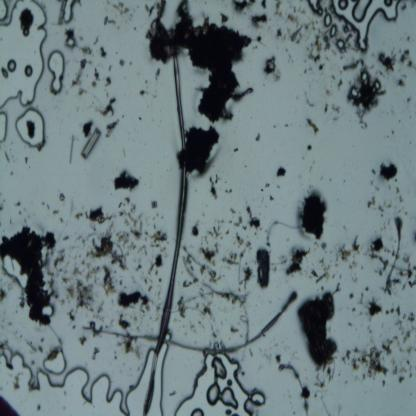Air bubble: (65, 348, 154, 416), (0, 0, 50, 113), (332, 0, 401, 53), (0, 341, 65, 397), (157, 348, 209, 416), (12, 105, 48, 153), (206, 381, 238, 409), (48, 50, 66, 96), (4, 255, 27, 289), (242, 388, 268, 416), (43, 352, 67, 376), (0, 0, 21, 27), (352, 0, 372, 22), (210, 355, 227, 380), (0, 108, 10, 144), (62, 0, 74, 23), (308, 0, 324, 16), (40, 304, 54, 318), (6, 59, 18, 73), (23, 64, 33, 78), (323, 14, 333, 26), (337, 0, 349, 10), (190, 408, 204, 416), (164, 333, 174, 343), (330, 24, 337, 38), (1, 66, 8, 79), (67, 38, 75, 49), (336, 40, 345, 49), (22, 28, 30, 38), (374, 78, 380, 91), (383, 0, 393, 7), (352, 87, 358, 97), (225, 408, 232, 415), (226, 378, 232, 386), (361, 73, 367, 80)
Background material: (178, 2, 258, 128), (170, 291, 297, 349), (0, 224, 59, 325), (294, 294, 341, 371), (75, 262, 124, 318), (142, 0, 181, 70), (176, 121, 219, 177), (347, 66, 386, 119), (277, 362, 315, 416), (387, 321, 416, 384), (298, 182, 328, 240), (82, 320, 157, 343), (383, 216, 402, 291), (86, 221, 114, 259), (361, 346, 390, 380), (284, 245, 313, 278), (254, 248, 274, 291), (116, 195, 138, 229), (118, 291, 150, 314), (112, 168, 140, 192), (212, 289, 249, 306), (109, 247, 129, 272), (264, 54, 281, 83), (182, 246, 197, 278), (380, 46, 396, 74), (86, 205, 107, 226), (265, 219, 280, 248), (99, 94, 117, 117), (124, 336, 142, 358), (148, 253, 166, 275), (237, 266, 254, 288), (378, 162, 398, 180), (248, 12, 268, 30), (246, 206, 261, 229), (232, 0, 256, 14), (366, 296, 382, 317), (207, 172, 219, 200), (384, 276, 402, 294), (221, 250, 239, 267), (287, 25, 303, 44), (402, 252, 413, 279), (46, 279, 60, 300), (199, 246, 216, 263), (342, 58, 366, 70), (106, 118, 120, 138), (273, 252, 287, 272), (207, 268, 223, 285), (312, 372, 327, 390), (176, 294, 187, 318), (53, 246, 66, 266), (369, 236, 385, 252), (115, 230, 130, 247), (81, 120, 95, 138), (149, 230, 168, 243), (339, 242, 352, 261), (118, 314, 132, 331), (382, 338, 393, 358), (352, 233, 362, 255), (200, 303, 214, 318), (47, 345, 61, 360), (206, 224, 221, 238), (308, 116, 319, 135), (322, 27, 330, 53), (180, 277, 198, 288), (143, 1, 156, 16), (69, 132, 75, 164), (315, 272, 331, 284), (113, 2, 129, 14), (130, 228, 144, 241), (287, 13, 299, 28), (13, 373, 23, 391), (378, 256, 390, 271), (26, 337, 37, 353), (314, 32, 322, 53), (321, 257, 332, 272), (304, 91, 314, 107), (238, 248, 246, 268), (235, 232, 245, 248), (71, 73, 81, 88), (326, 366, 334, 384), (342, 348, 351, 364), (68, 198, 77, 214), (80, 45, 93, 56), (19, 288, 26, 308), (370, 178, 380, 192), (399, 49, 409, 63), (66, 285, 76, 299), (0, 338, 10, 352), (76, 233, 86, 247), (0, 285, 8, 302), (332, 281, 341, 296), (219, 11, 230, 23), (367, 197, 378, 209), (58, 274, 69, 286), (351, 356, 361, 369), (92, 345, 100, 360), (138, 244, 148, 256), (276, 165, 286, 177), (406, 58, 416, 70), (57, 265, 69, 275), (47, 267, 56, 280), (344, 30, 353, 43), (64, 30, 75, 40), (103, 76, 112, 88), (234, 215, 243, 227), (191, 223, 199, 236), (407, 311, 416, 322), (77, 86, 86, 97), (397, 266, 406, 277), (155, 67, 162, 81), (99, 47, 107, 59), (154, 301, 162, 313), (358, 291, 364, 306), (275, 0, 281, 15), (94, 66, 100, 81), (80, 58, 88, 69), (332, 103, 340, 114), (200, 263, 207, 275), (213, 242, 220, 254), (68, 309, 75, 321), (130, 239, 137, 251), (80, 334, 87, 346), (3, 150, 10, 162), (314, 53, 322, 63), (102, 16, 110, 26), (308, 48, 314, 61), (275, 353, 282, 364), (337, 79, 344, 90), (359, 120, 368, 128), (378, 202, 384, 214), (318, 61, 326, 70), (276, 26, 282, 38), (298, 4, 307, 12), (408, 278, 416, 287), (50, 208, 60, 215), (58, 193, 66, 201), (370, 252, 378, 260), (212, 342, 220, 350), (334, 250, 338, 266), (304, 22, 312, 30), (76, 211, 84, 219), (231, 326, 240, 333), (131, 316, 140, 323), (398, 78, 405, 87), (14, 200, 23, 207), (256, 34, 263, 43), (311, 21, 317, 31), (107, 18, 117, 24), (395, 306, 401, 316), (36, 402, 42, 412), (104, 215, 114, 221), (255, 132, 261, 142), (246, 240, 252, 250), (348, 292, 355, 300), (135, 263, 142, 271), (352, 347, 360, 354), (325, 88, 332, 96), (402, 282, 409, 290), (375, 268, 383, 275), (94, 36, 100, 45), (312, 269, 318, 278), (230, 207, 237, 214), (383, 246, 390, 253), (63, 234, 70, 241), (58, 216, 64, 224), (398, 195, 404, 203), (331, 48, 337, 56), (352, 260, 358, 268), (224, 187, 232, 193), (23, 156, 29, 164), (60, 298, 66, 306), (142, 278, 148, 286), (379, 70, 385, 78), (91, 80, 97, 88), (413, 228, 416, 243), (322, 241, 327, 250), (332, 115, 341, 120), (151, 244, 160, 249), (211, 260, 217, 267), (224, 228, 230, 235), (331, 73, 337, 80), (367, 326, 372, 334), (382, 380, 387, 388), (282, 32, 286, 42), (262, 0, 266, 10), (212, 330, 217, 338), (148, 284, 153, 292), (250, 348, 254, 357), (38, 346, 44, 352), (139, 223, 143, 232), (204, 237, 209, 244), (292, 6, 297, 13), (406, 35, 411, 42), (386, 204, 393, 209), (372, 169, 377, 176), (392, 249, 396, 257), (308, 144, 312, 152), (396, 186, 400, 194), (412, 264, 416, 272), (0, 204, 4, 212), (364, 286, 369, 292), (269, 194, 274, 200), (242, 225, 248, 230), (265, 182, 270, 188), (160, 248, 166, 253), (352, 276, 357, 282), (234, 147, 240, 152), (279, 13, 283, 20), (46, 203, 50, 210), (141, 89, 145, 96), (388, 183, 392, 190), (145, 231, 148, 240), (324, 104, 327, 113), (352, 306, 356, 312), (348, 321, 352, 327), (108, 65, 112, 71), (72, 324, 76, 330), (309, 166, 313, 172), (362, 374, 366, 380), (332, 272, 336, 278), (252, 45, 258, 49), (289, 54, 292, 62), (320, 285, 324, 291), (303, 68, 307, 74), (391, 308, 395, 314), (138, 116, 142, 121), (406, 98, 411, 102), (295, 95, 299, 100), (144, 79, 148, 84), (10, 171, 14, 176), (159, 278, 163, 283), (41, 202, 45, 207), (88, 60, 93, 64), (403, 314, 406, 320), (153, 224, 156, 230), (349, 263, 352, 269), (386, 308, 388, 316), (80, 36, 84, 40), (284, 123, 288, 127), (340, 56, 344, 60), (156, 212, 160, 216), (10, 216, 12, 224), (320, 176, 324, 180), (40, 338, 44, 342), (395, 177, 398, 182), (229, 219, 232, 224), (379, 214, 384, 217), (254, 232, 257, 237), (308, 66, 311, 71), (19, 211, 22, 216), (406, 209, 408, 216), (0, 220, 2, 227), (392, 128, 394, 134), (156, 270, 158, 276), (369, 64, 375, 66), (329, 178, 332, 182), (133, 27, 136, 31), (261, 188, 264, 192), (340, 273, 342, 279), (311, 44, 314, 48), (156, 316, 158, 322), (301, 156, 304, 160), (277, 184, 280, 188), (387, 134, 389, 139), (129, 62, 132, 65), (306, 47, 309, 50), (343, 179, 346, 182), (244, 165, 247, 168), (33, 361, 35, 365), (115, 356, 117, 360), (286, 48, 288, 52), (316, 21, 318, 24), (245, 262, 248, 264), (409, 116, 412, 118), (398, 120, 401, 122), (274, 126, 276, 128), (299, 125, 301, 127), (409, 142, 411, 144)
Diatom: (80, 129, 101, 159), (118, 58, 126, 66), (151, 200, 158, 208)
Hair: (141, 55, 190, 414)
